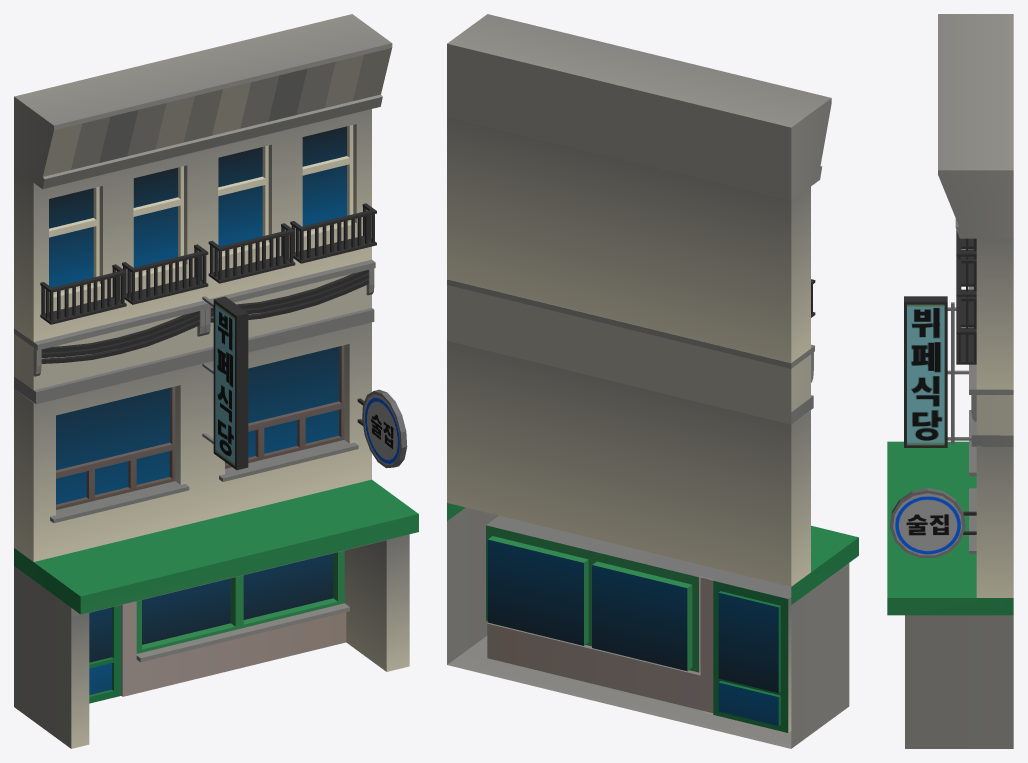
Rendered from B02_Facade-7-A.fbx.
The picture shows the model from 3 angles, left to right: view 1: azimuth 30°, elevation 25°; view 2: azimuth 150°, elevation 25°; view 3: azimuth 270°, elevation 25°; orthographic projection. The views are drawn at different scales.
Parts seen in each view (by area): view 1: B02_Facade-7-A; view 2: B02_Facade-7-A; view 3: B02_Facade-7-A.
Boxes of the visible parts, x1,y1,x2,y2 form: B02_Facade-7-A: [14, 14, 418, 748]; B02_Facade-7-A: [447, 14, 858, 748]; B02_Facade-7-A: [887, 14, 1013, 748].
Bounding box in the file's own units: 750 × 1294 × 256.
